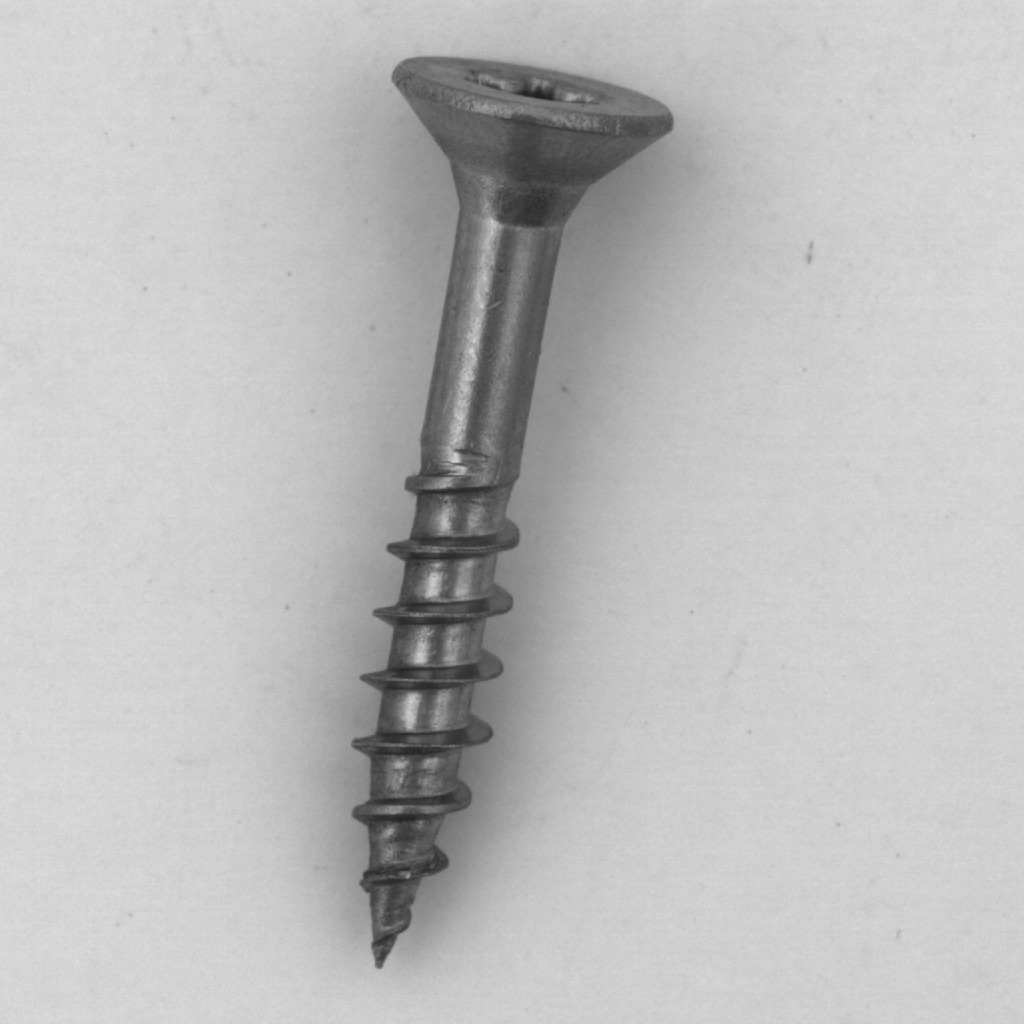good: (317, 37, 681, 988)
